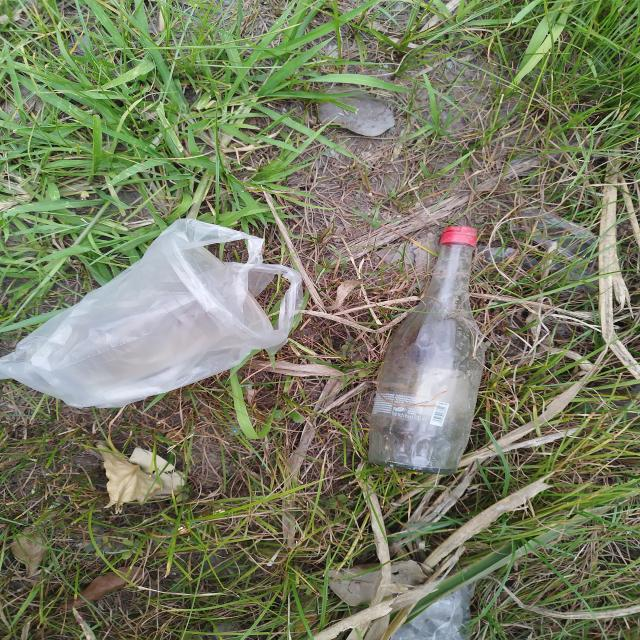bottle: (368, 226, 482, 474)
trash bag: (0, 217, 302, 407)
